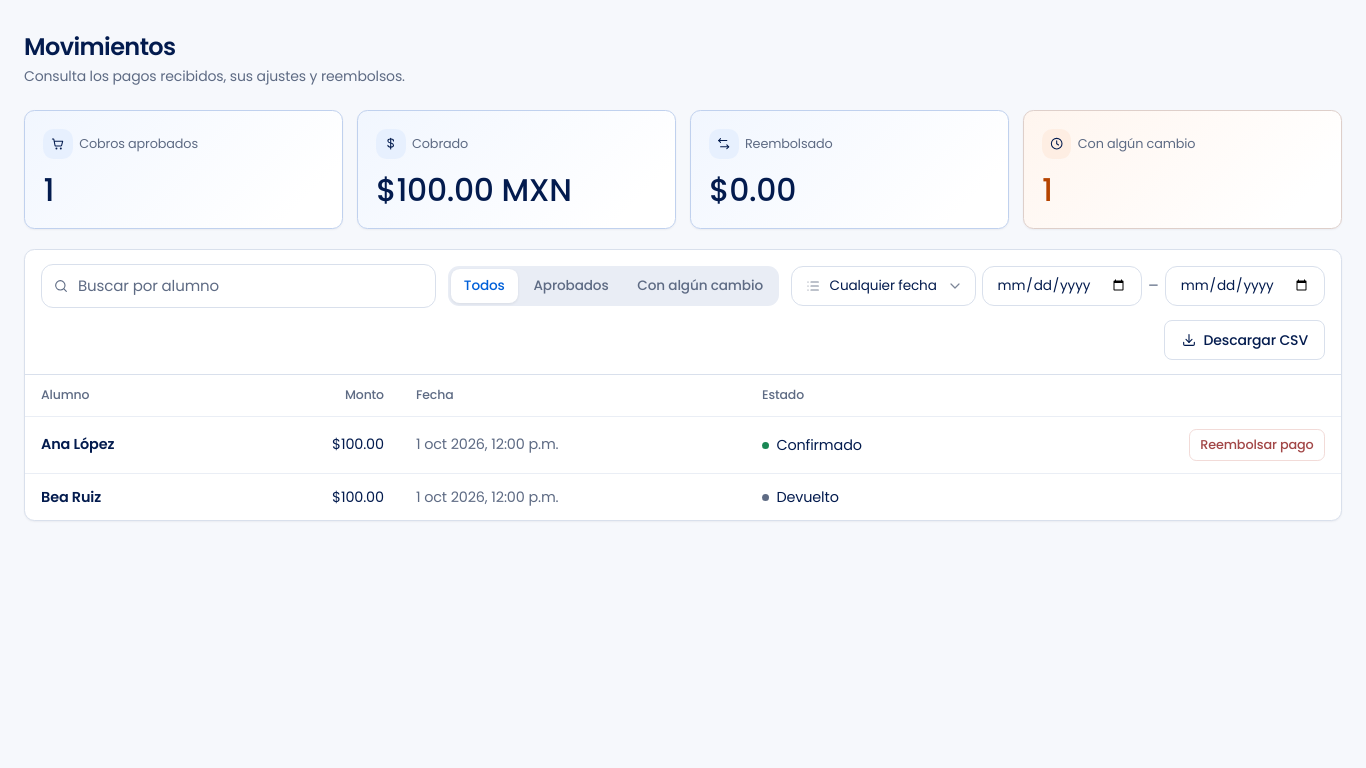
Test: cobros: movimientos › el reembolso que no pasa se explica dentro del diálogo, junto a su campo
Click the button "Reembolsar pago" at coordinates (1257, 445), box [1189, 429, 1325, 461]
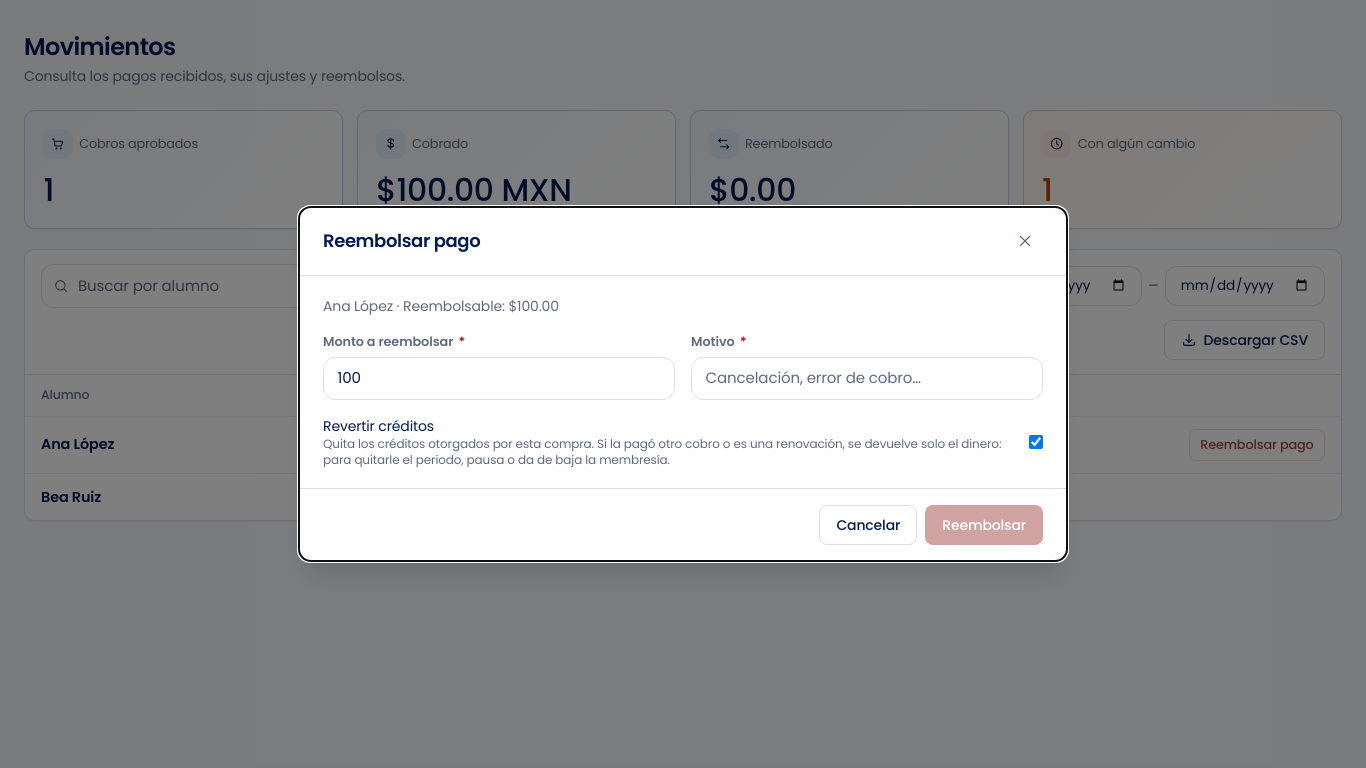
Type "Cobro doble" into the field with id "rmt" at coordinates (867, 378), box [691, 356, 1043, 400]
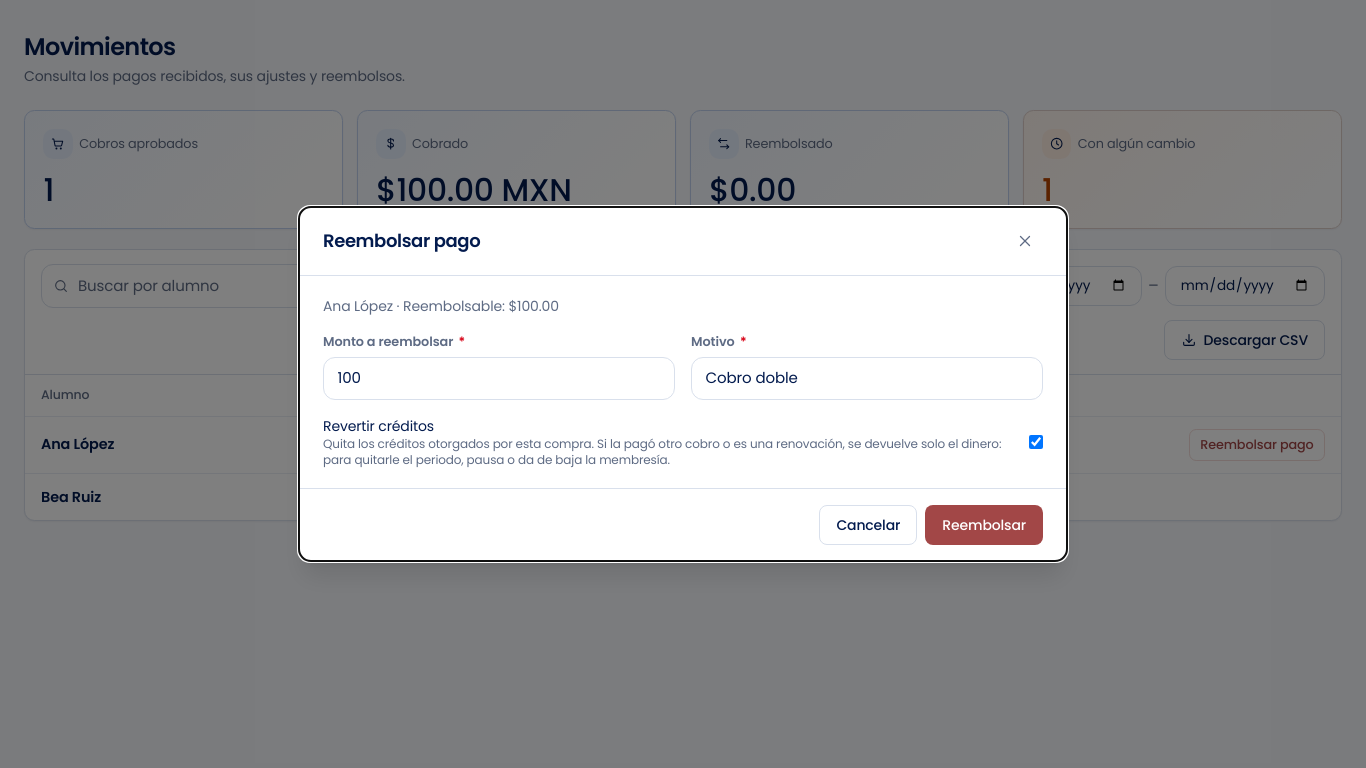
Submit the form with id "form-reembolso", box [323, 332, 1043, 468]
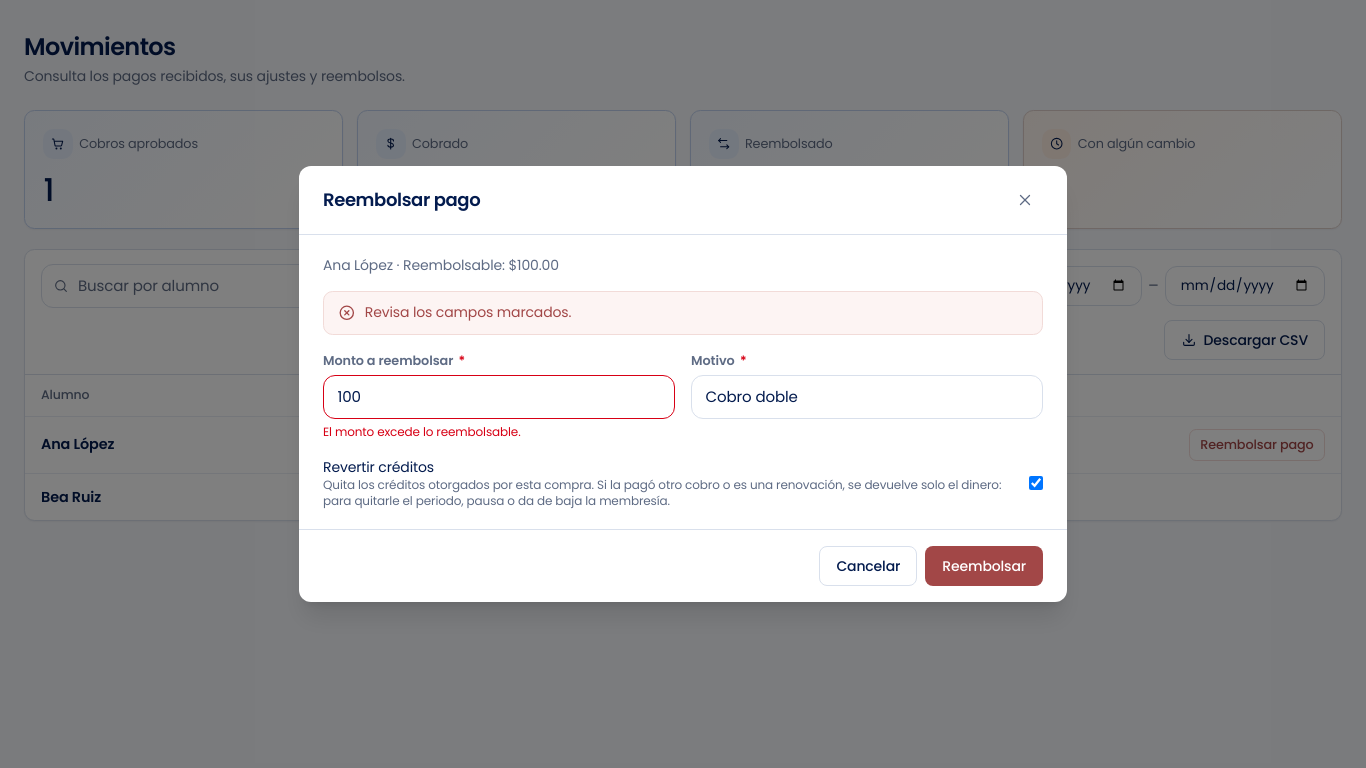
Check: the message "Revisa los campos marcados." is shown, box [323, 291, 1043, 335]
Check: the text with id "rm-error" reads "El monto excede lo reembolsable.", box [323, 423, 521, 440]
